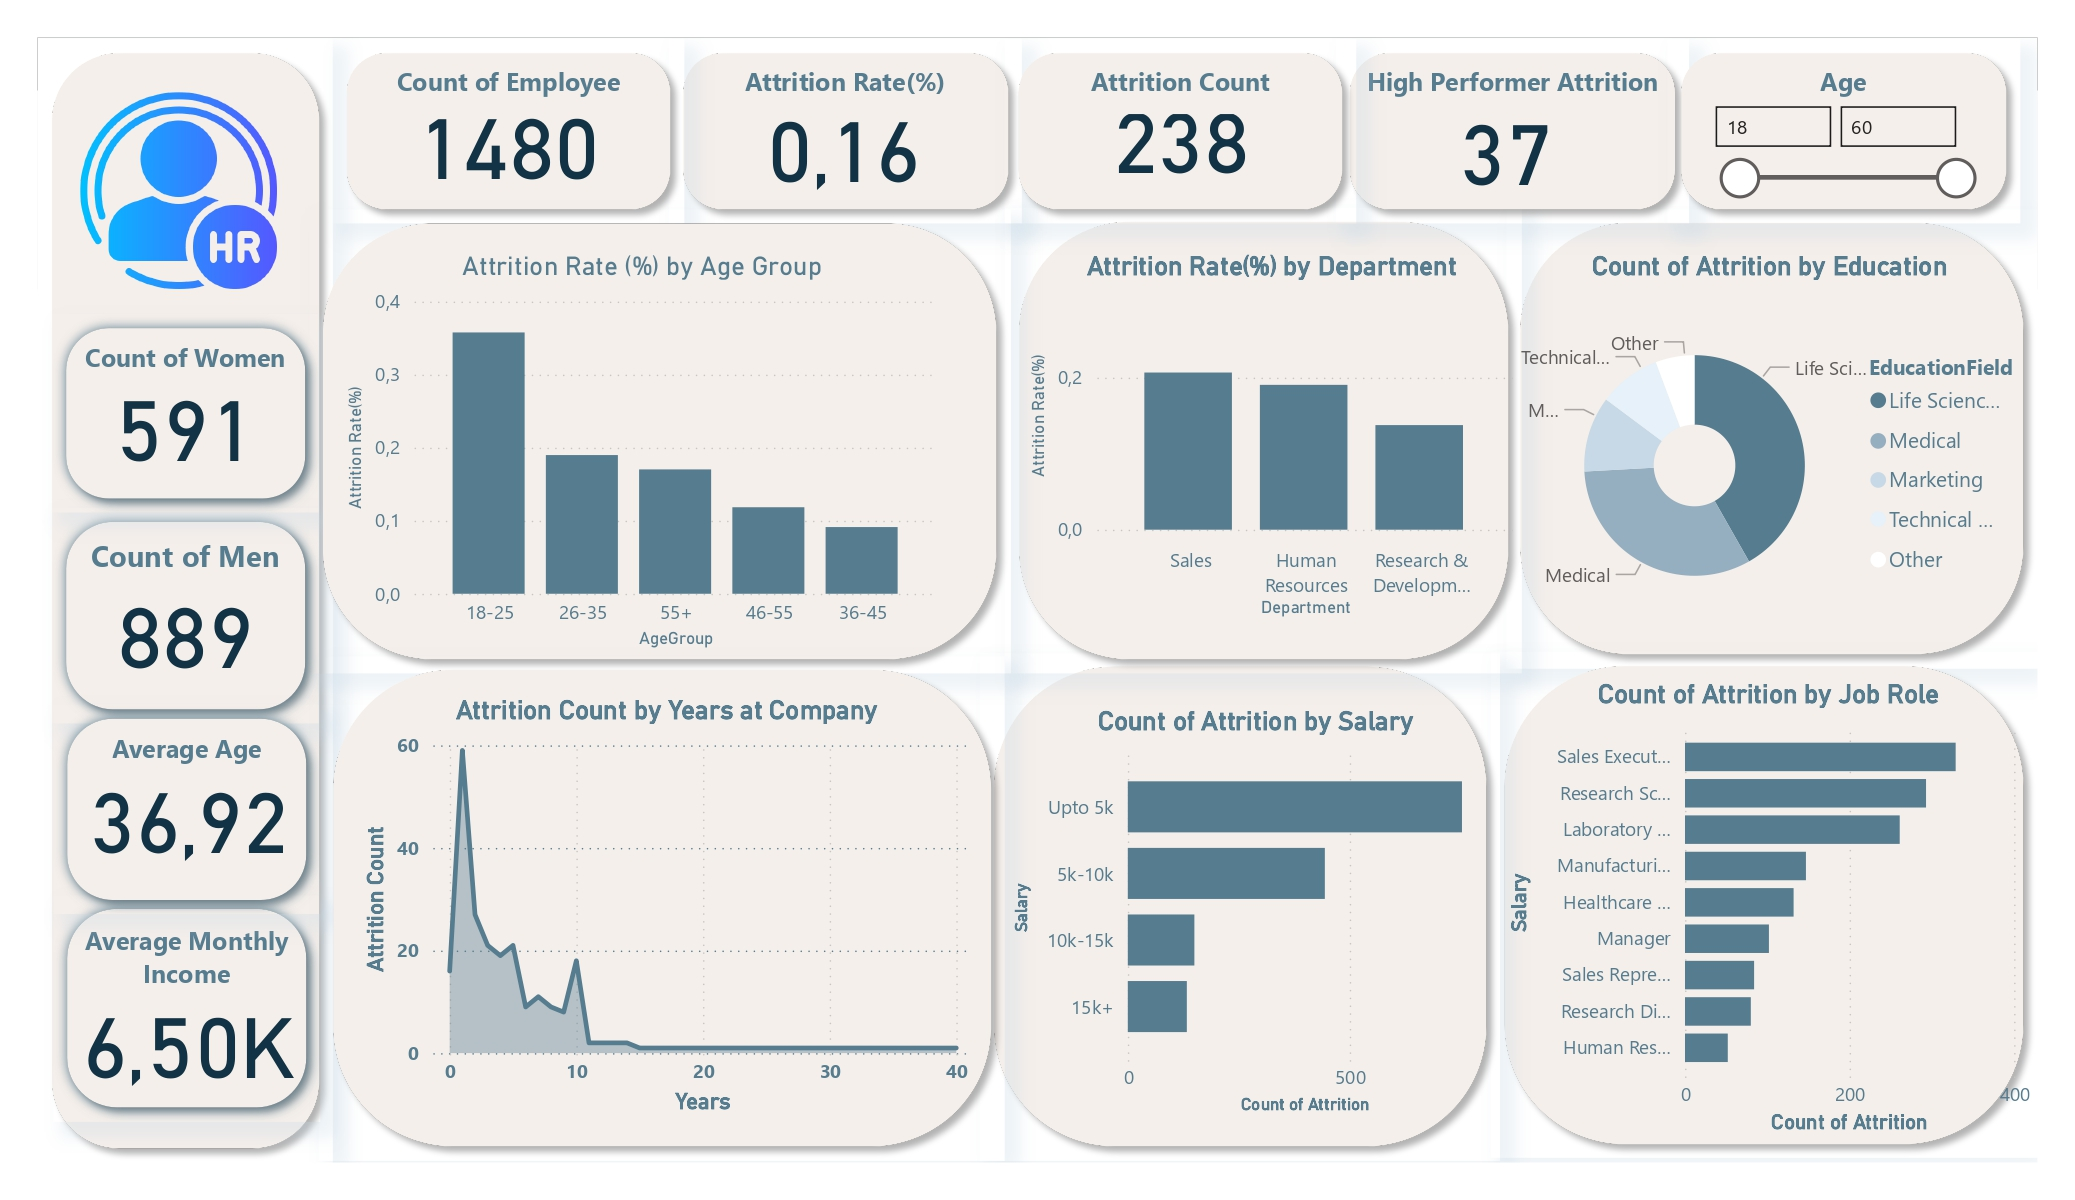

What the dashboard file says about the page in this screenshot:
{"tool":"powerbi","page":{"name":"analisis1","canvas":[1280,720],"ordinal":0},"visuals":[{"type":"shape","box":[0,1.4,188.6,718.6],"z":0},{"type":"shape","box":[10,548.6,171.4,145.7],"z":1000},{"type":"shape","box":[940,110,340,294.3],"z":2000},{"type":"shape","box":[930,392.9,350,324.3],"z":3000},{"type":"shape","box":[602.9,394.3,332.9,324.3],"z":4000},{"type":"shape","box":[618.6,108.6,331.4,298.6],"z":5000},{"type":"shape","box":[8.6,301.4,171.4,137.1],"z":6000},{"type":"card","fields":{"Values":["HR_Analytics.Total Employees"]},"box":[210,1.4,182.9,97.1],"z":7000},{"type":"shape","box":[404.3,1.4,225.7,117.1],"z":8000},{"type":"shape","box":[831.4,1.4,225.7,117.1],"z":9000},{"type":"shape","box":[188.6,1.4,225.7,117.1],"z":10000},{"type":"shape","box":[618.6,1.4,225.7,117.1],"z":11000},{"type":"shape","box":[1042.9,1.4,225.7,117.1],"z":12000},{"type":"card","fields":{"Values":["HR_Analytics.Total Employees"]},"box":[227.1,44.3,148.6,62.9],"z":13000},{"type":"card","fields":{"Values":["dax.Attrition Rate(%)"]},"box":[451.4,44.3,130,65.7],"z":14000},{"type":"card","fields":{"Values":["dax.Average Monthly Income"]},"box":[12.9,621.4,168.6,60],"z":15000},{"type":"card","fields":{"Values":["dax.Attrition Count"]},"box":[670,44.3,124.3,54.3],"z":16000},{"type":"card","fields":{"Values":["dax.High Performer Attrition"]},"box":[884.3,50,111.4,58.6],"z":17000},{"type":"shape","box":[8.6,177.1,171.4,127.1],"z":18000},{"type":"card","fields":{"Values":["dax.Total Employees womens"]},"box":[41.4,225.7,104.3,60],"z":19000},{"type":"shape","box":[174.3,110,448.6,297.1],"z":20000},{"type":"clusteredColumnChart","fields":{"Category":["HR_Analytics.Department"],"Y":["dax.Attrition Rate(%)"]},"box":[630,135.7,320,240],"z":21000},{"type":"card","fields":{"Values":["dax.Total Employees man"]},"box":[30,357.1,128.6,62.9],"z":22000},{"type":"clusteredColumnChart","title":"Attrition Rate (%) by Age Group","fields":{"Category":["HR_Analytics.AgeGroup"],"Y":["dax.Attrition Rate(%)"]},"box":[192.9,135.7,388.6,260],"z":23000},{"type":"shape","box":[10,427.1,171.4,134.3],"z":24000},{"type":"card","fields":{"Values":["dax.avg age"]},"box":[11.4,477.1,171.4,60],"z":25000},{"type":"shape","box":[180,395.7,438.6,322.9],"z":26000},{"type":"areaChart","title":"Attrition Count by Years at Company","fields":{"Category":["HR_Analytics.YearsAtCompany"],"Y":["dax.Attrition Count"]},"box":[202.9,420,400,274.3],"z":27000},{"type":"clusteredBarChart","title":"Count of Attrition by Salary","fields":{"Y":["CountNonNull(HR_Analytics.Attrition)"],"Category":["HR_Analytics.SalarySlab"]},"box":[618.6,427.1,321.4,267.1],"z":28000},{"type":"clusteredBarChart","title":"Count of Attrition by Job Role","fields":{"Y":["CountNonNull(HR_Analytics.Attrition)"],"Category":["HR_Analytics.JobRole"]},"box":[935.7,410,344.3,295.7],"z":29000},{"type":"donutChart","title":"Count of Attrition by Education","fields":{"Category":["HR_Analytics.EducationField"],"Y":["CountNonNull(HR_Analytics.Attrition)"]},"box":[944.3,135.7,328.6,257.1],"z":30000},{"type":"slicer","fields":{"Values":["HR_Analytics.Age"]},"box":[1061.4,20,187.1,95.7],"z":31000},{"type":"image","box":[12.9,20,154.3,155.7],"z":32001}]}

Visuals, with their boxes on the page's 1280x720 design canvas (x1, y1, x2, y2). These are canvas units, not pixel positions in the 2075x1200 screenshot, which may show the page scaled, cropped or inside an application window:
shape: (left=0, top=1, right=189, bottom=720)
shape: (left=10, top=549, right=181, bottom=694)
shape: (left=940, top=110, right=1280, bottom=404)
shape: (left=930, top=393, right=1280, bottom=717)
shape: (left=603, top=394, right=936, bottom=719)
shape: (left=619, top=109, right=950, bottom=407)
shape: (left=9, top=301, right=180, bottom=438)
card - HR_Analytics.Total Employees: (left=210, top=1, right=393, bottom=98)
shape: (left=404, top=1, right=630, bottom=118)
shape: (left=831, top=1, right=1057, bottom=118)
shape: (left=189, top=1, right=414, bottom=118)
shape: (left=619, top=1, right=844, bottom=118)
shape: (left=1043, top=1, right=1269, bottom=118)
card - HR_Analytics.Total Employees: (left=227, top=44, right=376, bottom=107)
card - dax.Attrition Rate(%): (left=451, top=44, right=581, bottom=110)
card - dax.Average Monthly Income: (left=13, top=621, right=182, bottom=681)
card - dax.Attrition Count: (left=670, top=44, right=794, bottom=99)
card - dax.High Performer Attrition: (left=884, top=50, right=996, bottom=109)
shape: (left=9, top=177, right=180, bottom=304)
card - dax.Total Employees womens: (left=41, top=226, right=146, bottom=286)
shape: (left=174, top=110, right=623, bottom=407)
clusteredColumnChart - HR_Analytics.Department x dax.Attrition Rate(%): (left=630, top=136, right=950, bottom=376)
card - dax.Total Employees man: (left=30, top=357, right=159, bottom=420)
"Attrition Rate (%) by Age Group" clusteredColumnChart: (left=193, top=136, right=582, bottom=396)
shape: (left=10, top=427, right=181, bottom=561)
card - dax.avg age: (left=11, top=477, right=183, bottom=537)
shape: (left=180, top=396, right=619, bottom=719)
"Attrition Count by Years at Company" areaChart: (left=203, top=420, right=603, bottom=694)
"Count of Attrition by Salary" clusteredBarChart: (left=619, top=427, right=940, bottom=694)
"Count of Attrition by Job Role" clusteredBarChart: (left=936, top=410, right=1280, bottom=706)
"Count of Attrition by Education" donutChart: (left=944, top=136, right=1273, bottom=393)
slicer - HR_Analytics.Age: (left=1061, top=20, right=1248, bottom=116)
image: (left=13, top=20, right=167, bottom=176)
